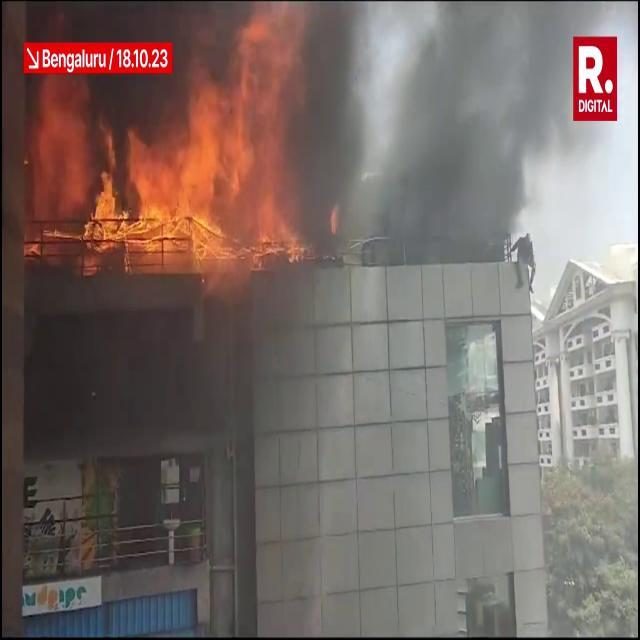Fire: (40, 19, 317, 281)
Smoke: (229, 4, 582, 302)
